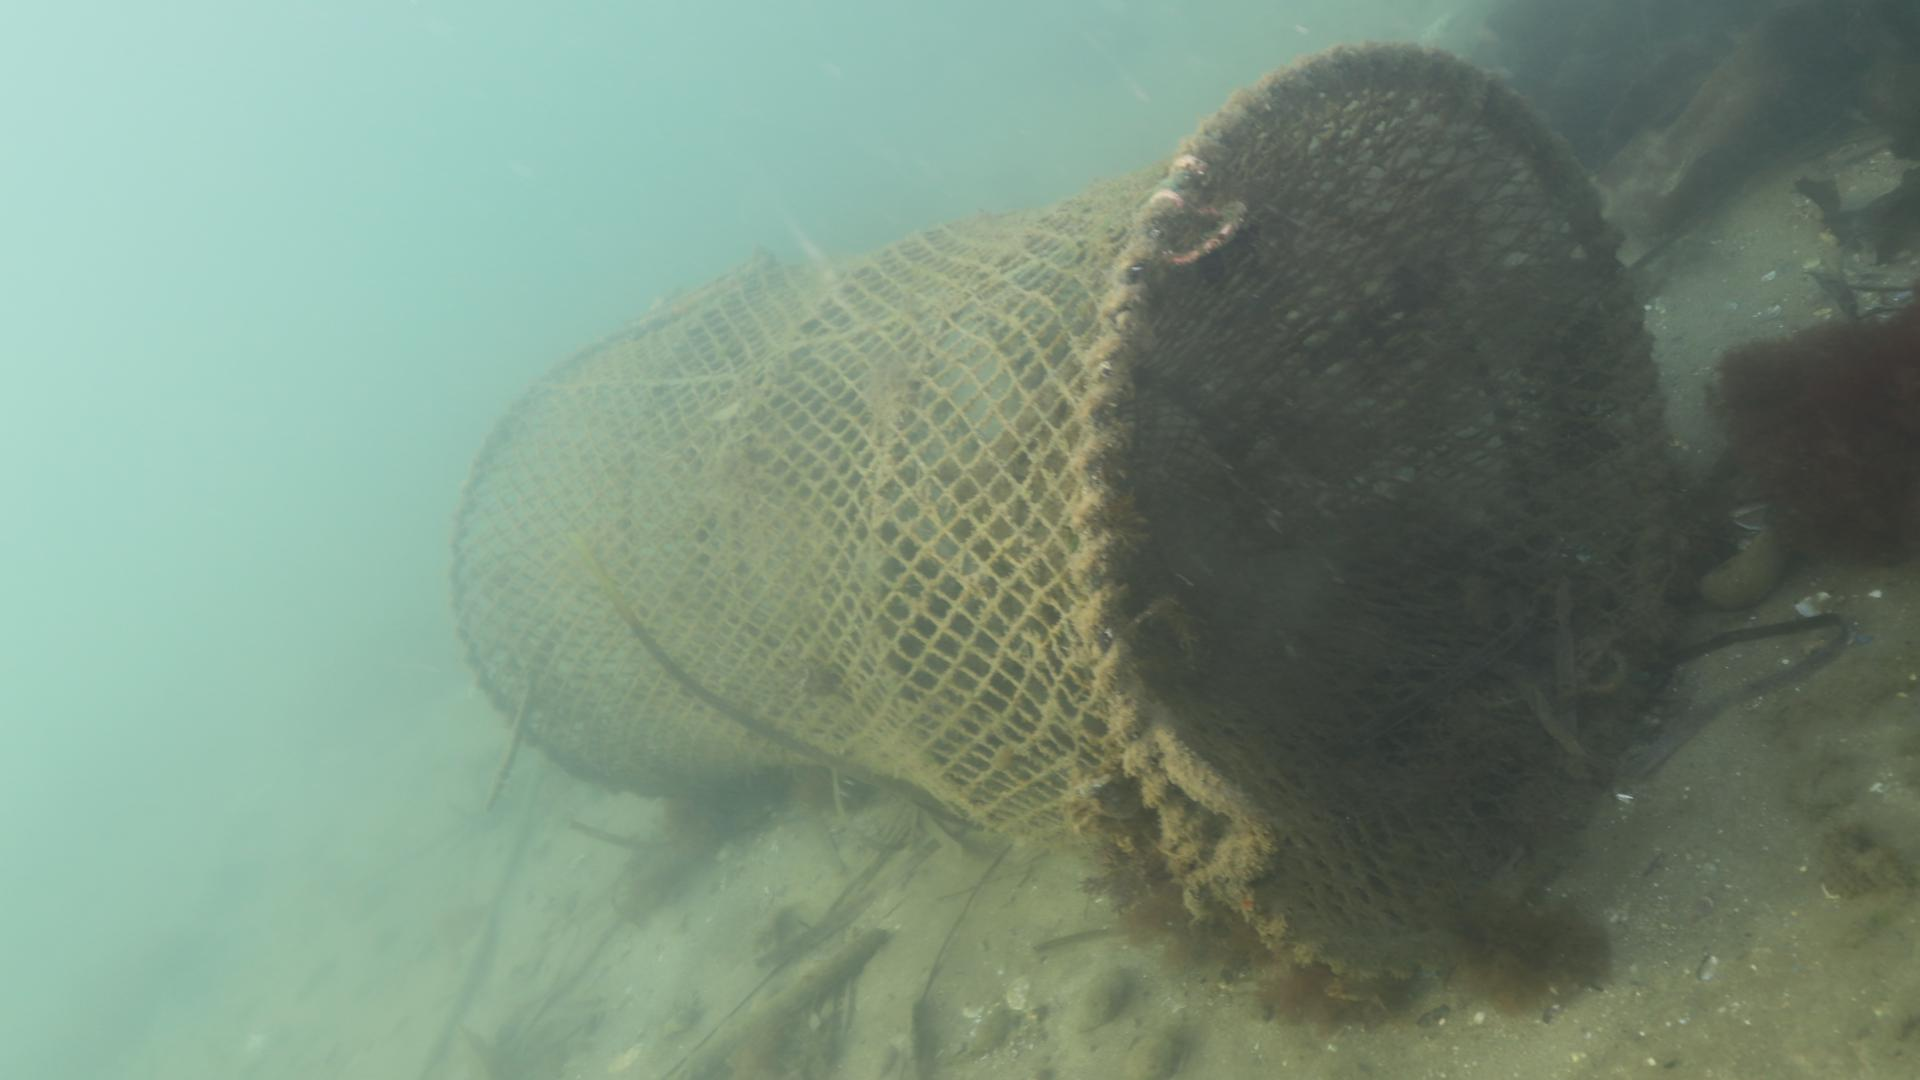spring fish trap: (444, 37, 1677, 1000)
